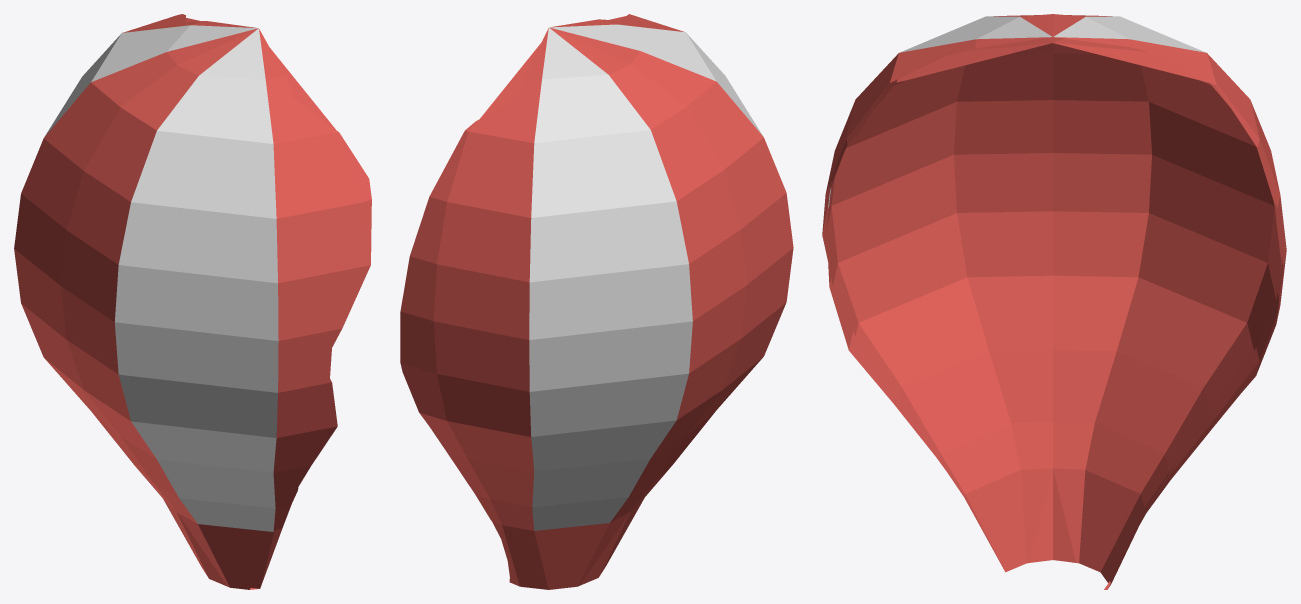
File: ballonPart1.fbx
3 views of the same model, side by side, from view 1: azimuth 30°, elevation 25°; view 2: azimuth 150°, elevation 25°; view 3: azimuth 270°, elevation 25° (orthographic).
Parts seen in each view (by area): view 1: Cube.003; view 2: Cube.003; view 3: Cube.003.
Part boxes in pixels (bbox=[...]): Cube.003: bbox=[14, 14, 371, 589]; Cube.003: bbox=[400, 14, 793, 589]; Cube.003: bbox=[822, 14, 1286, 589].
Bounding box in the file's own units: 474 × 1031 × 794.
